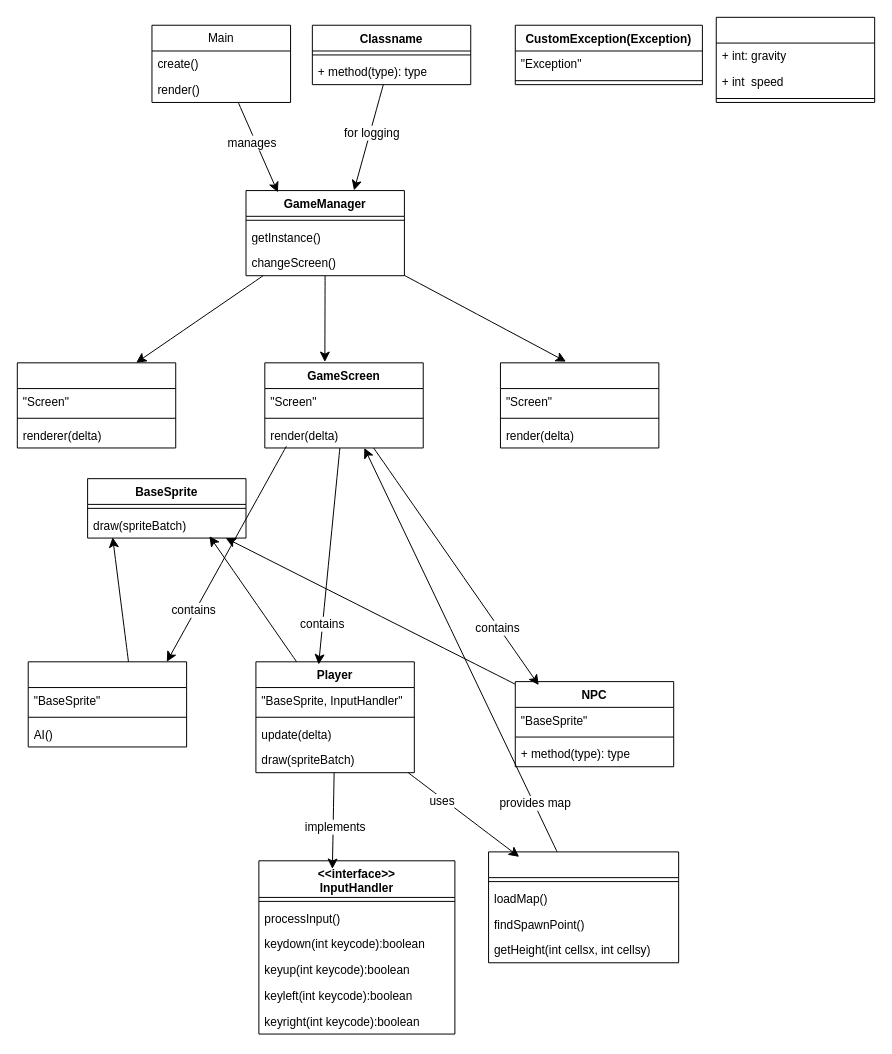
Some shapes in this 892 by 1054 pixel diagram are drawn without their labels. The shapes that lost their labels are listed below. From the top down, each one's box as (x1, y1, x2, y2) in pixels, then its label:
(715, 16, 875, 102): Constants
(16, 362, 176, 448): MainMenuScreen
(499, 362, 659, 448): PauseScreen
(27, 661, 187, 747): Enemy
(488, 851, 679, 963): Maploader
